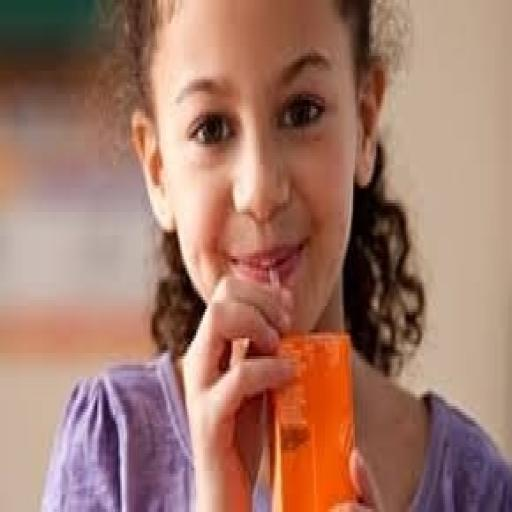drinking: (266, 330, 356, 509)
